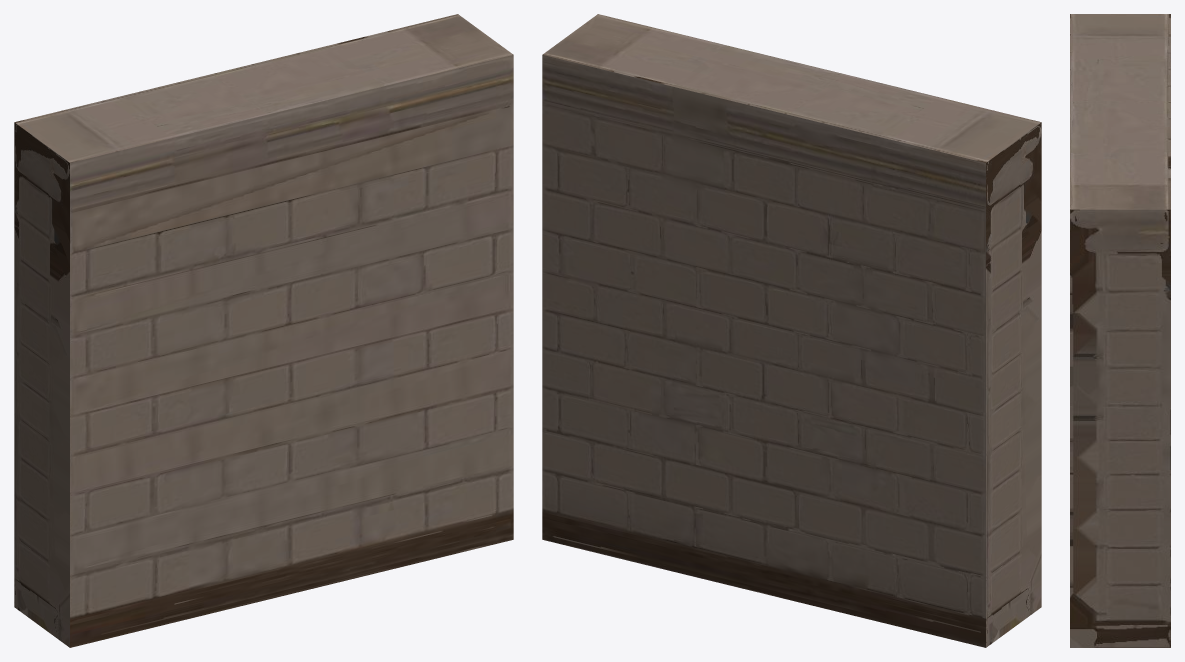
The model's file is sd_parede_lisa.glb.
The picture shows the model from 3 angles, left to right: view 1: azimuth 30°, elevation 25°; view 2: azimuth 150°, elevation 25°; view 3: azimuth 270°, elevation 25°; orthographic projection. The views are drawn at different scales.
Parts seen in each view (by area): view 1: baixa; view 2: baixa; view 3: baixa.
Boxes of the visible parts, box(x1,y1,x2,y2) form: baixa: box(14, 14, 513, 647); baixa: box(542, 14, 1041, 647); baixa: box(1070, 14, 1170, 647).
Bounding box in the file's own units: 0.9574 × 1 × 0.2083.
1 material, 1 textured.
